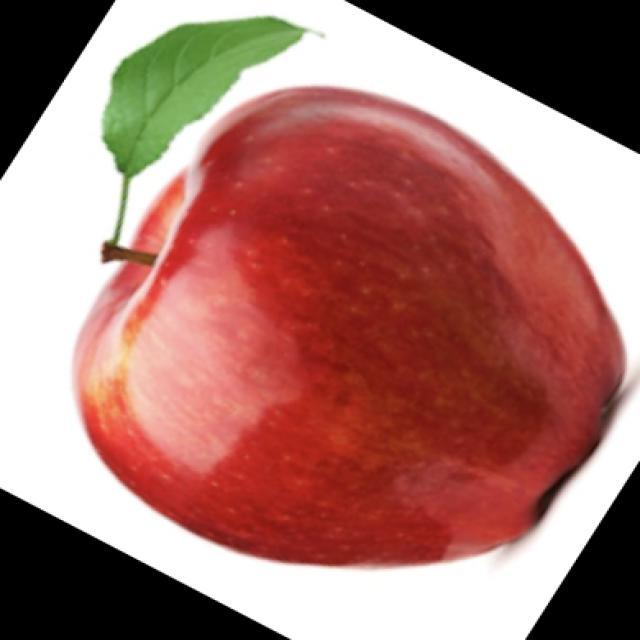Fresh Apple: (69, 83, 623, 567)
